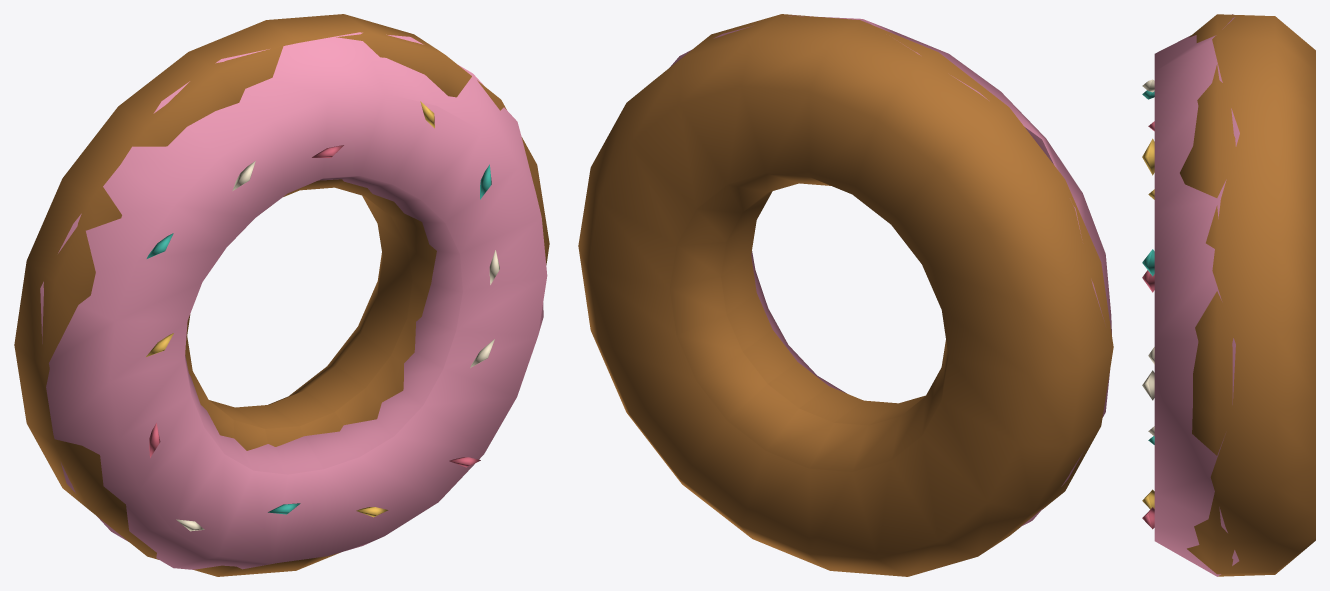
Rendered from snack_donut.glb.
The picture shows the model from 3 angles, left to right: view 1: azimuth 30°, elevation 25°; view 2: azimuth 150°, elevation 25°; view 3: azimuth 270°, elevation 25°; orthographic projection. The views are drawn at different scales.
Visible parts, largest first — view 1: Soft ring; view 2: Soft ring; view 3: Soft ring.
Boxes of the visible parts, left/top/right/bottom form: Soft ring: left=14, top=14, right=549, bottom=576; Soft ring: left=578, top=14, right=1113, bottom=576; Soft ring: left=1142, top=14, right=1315, bottom=576.
Size of the model in its own units: 1.48 by 1.48 by 0.454.
